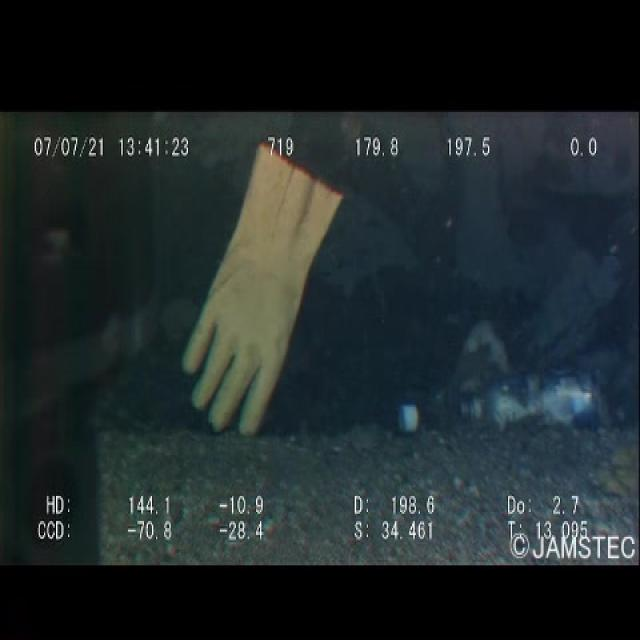plastic: (389, 379, 459, 448)
